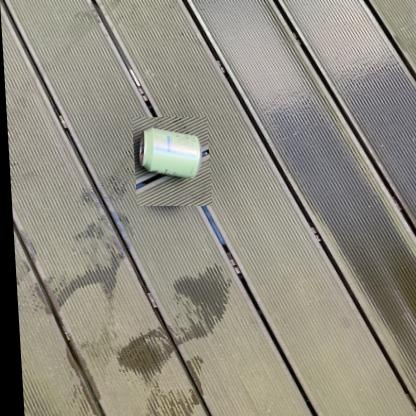trash: (140, 128, 200, 176)
